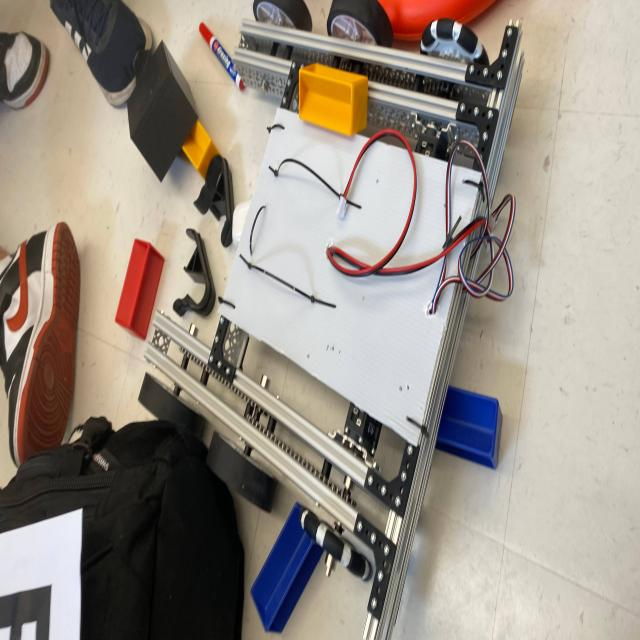blue-specimen: (251, 503, 323, 632), (436, 387, 502, 468)
red-specimen: (115, 239, 164, 339)
yellow-specimen: (299, 63, 368, 136), (182, 119, 220, 179)
